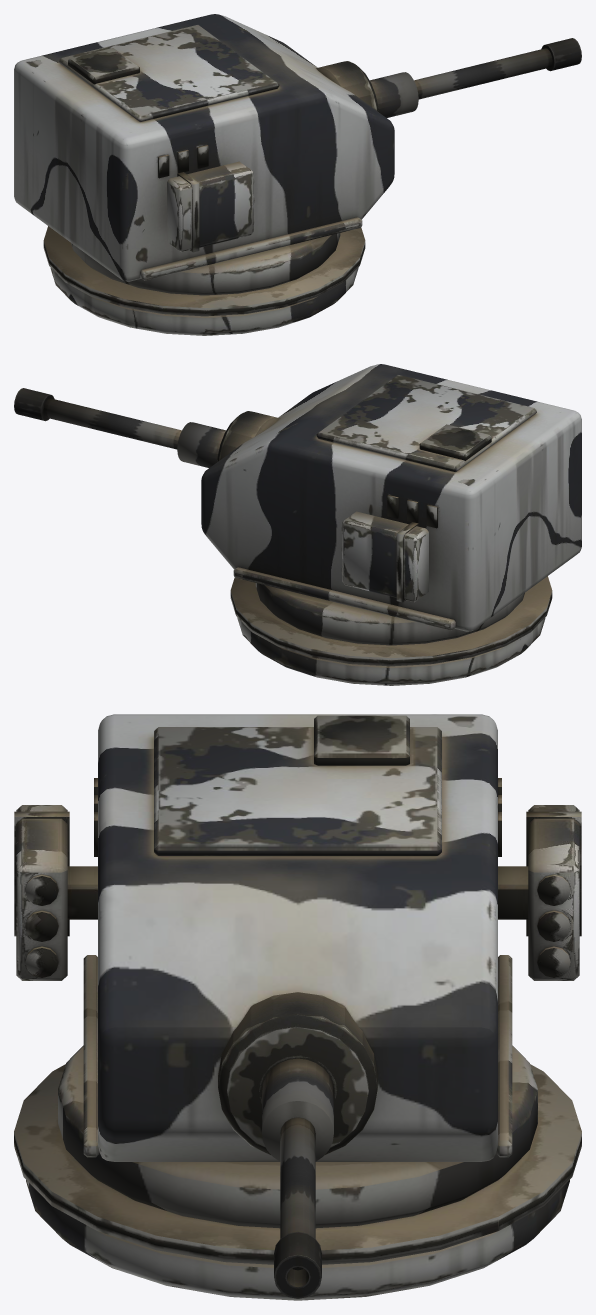
The model's file is turret_grach_t1_arctic_tiger.glb.
The picture shows the model from 3 angles, top to bottom: view 1: azimuth 30°, elevation 25°; view 2: azimuth 150°, elevation 25°; view 3: azimuth 270°, elevation 25°; orthographic projection. The views are drawn at different scales.
Parts seen in each view (by area): view 1: turret_light_t1, guns, pods; view 2: turret_light_t1, guns, pods; view 3: turret_light_t1, guns, pods.
Boxes of the visible parts, x1,y1,x2,y2 form: turret_light_t1: [14, 14, 394, 335]; guns: [316, 38, 581, 117]; pods: [167, 161, 254, 252]; turret_light_t1: [201, 364, 581, 685]; guns: [14, 388, 279, 467]; pods: [341, 511, 428, 602]; turret_light_t1: [14, 714, 581, 1300]; guns: [218, 992, 377, 1298]; pods: [14, 805, 581, 980].
Size of the model in its own units: 1.14 by 0.4664 by 0.6248.
Materials: 3 (3 with a texture image).
